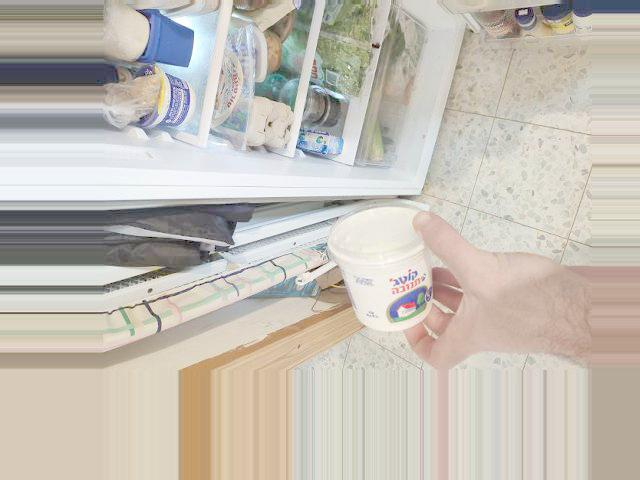cotage: (332, 209, 441, 331)
